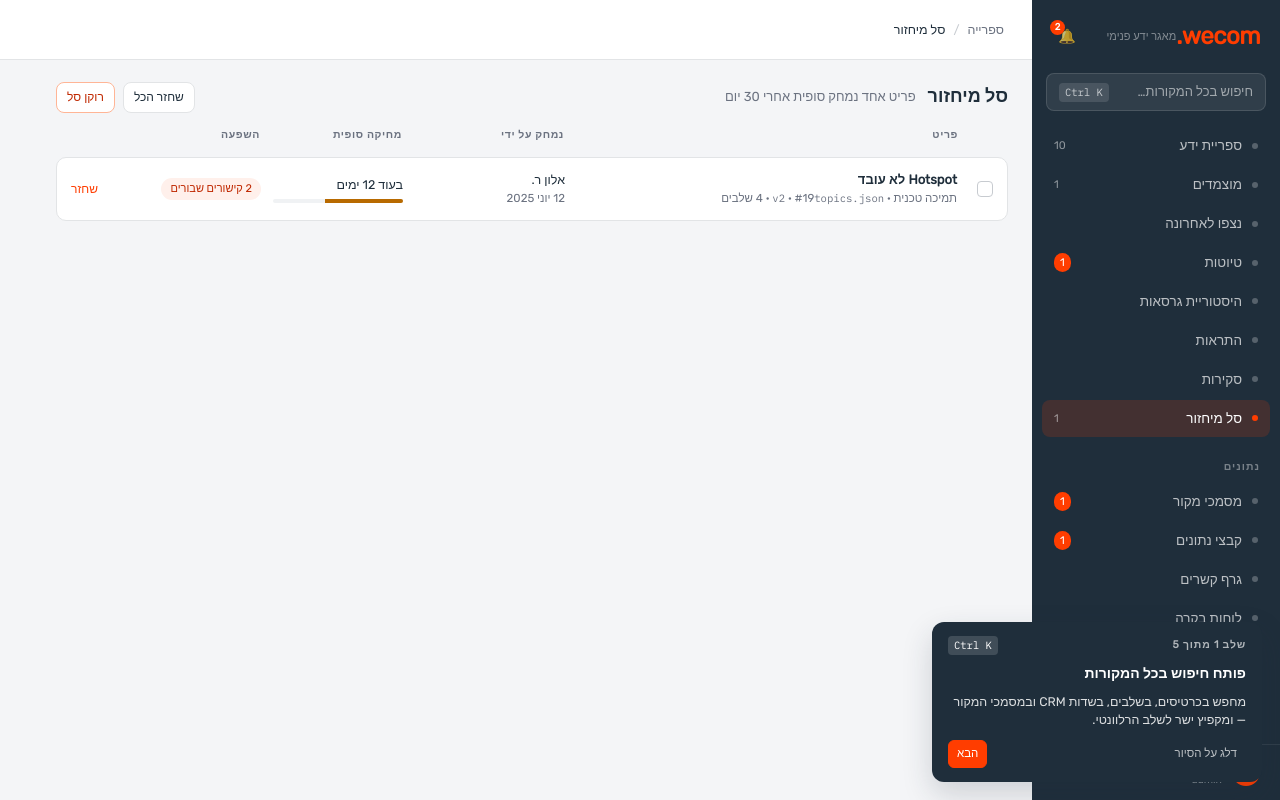
Test: <TrashPage> › shows countdown, impact and restores an item
expect the text "2 קישורים שבורים" is shown: met, box [162,178,261,200]
expect the text "בעוד 12 ימים" is shown: met, box [336,177,403,192]
Step 1. Click the button "שחזר" → {"x": 84, "y": 189}, box [71,180,98,198]
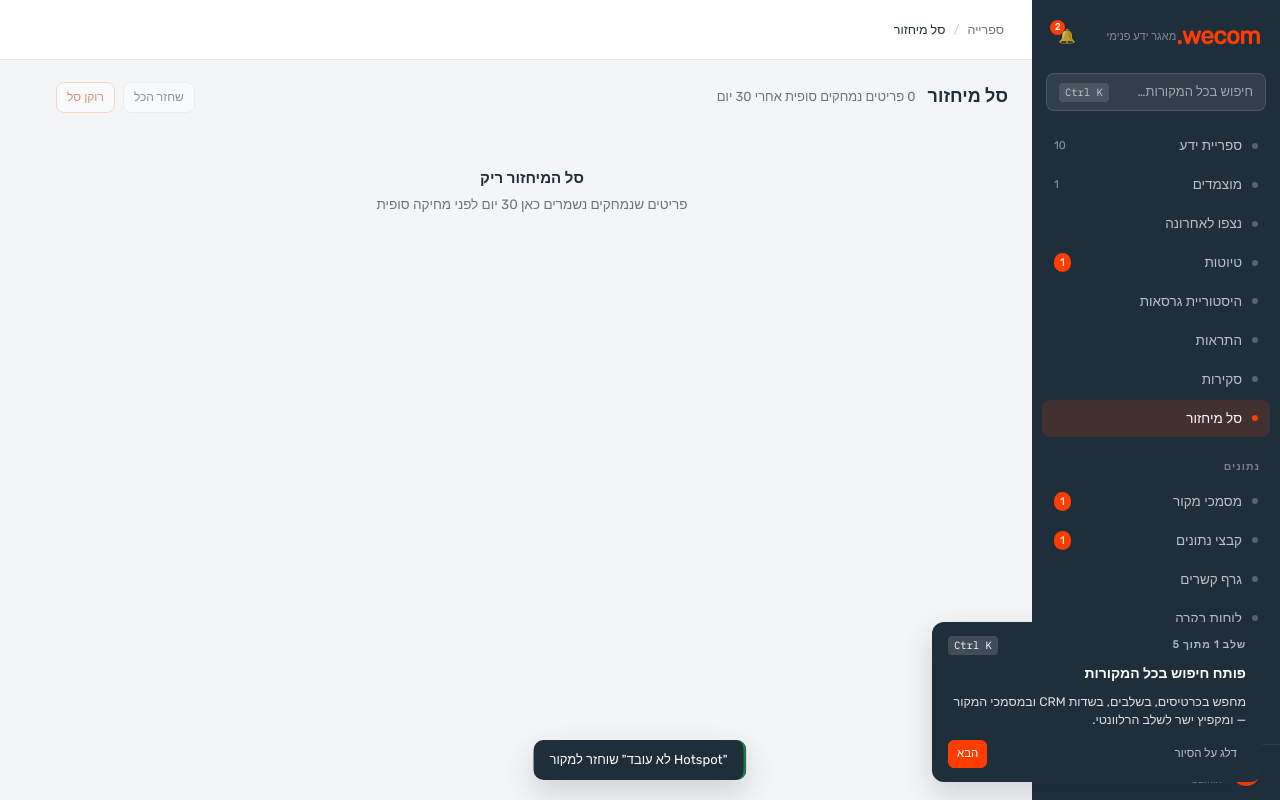
expect the text "סל המיחזור ריק" is shown: met, box [480,169,584,187]
